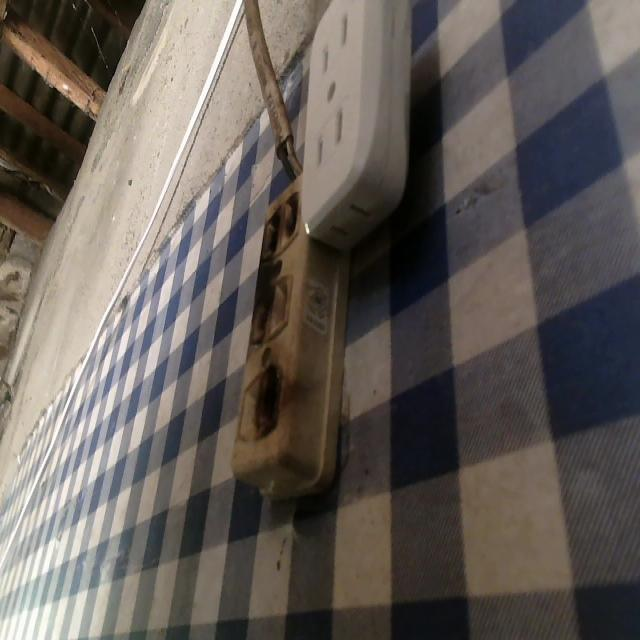-: (252, 357, 293, 451), (257, 190, 309, 262), (246, 280, 280, 345)
